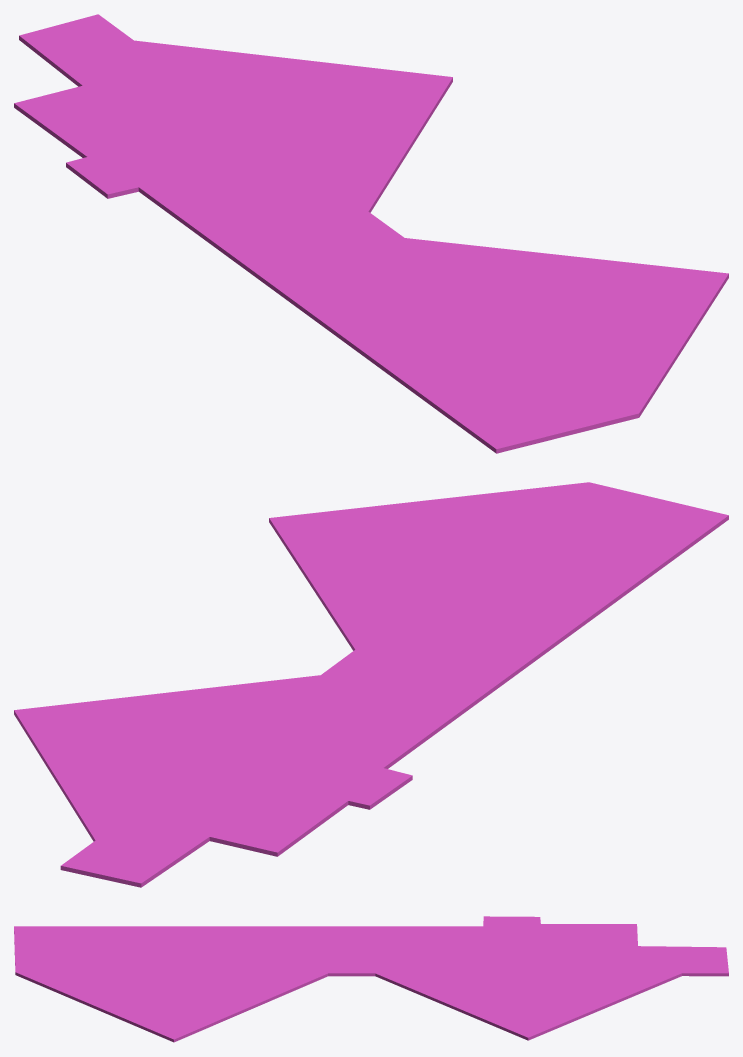
Rendered from 6thfloor.gltf.
3 views of the same model, one above another, from view 1: azimuth 30°, elevation 25°; view 2: azimuth 150°, elevation 25°; view 3: azimuth 270°, elevation 25° (orthographic). The views are drawn at different scales.
Parts seen in each view (by area): view 1: floor.001; view 2: floor.001; view 3: floor.001.
Boxes of the visible parts, <box> form: floor.001: <box>14,14,728,453</box>; floor.001: <box>14,482,728,887</box>; floor.001: <box>14,916,728,1042</box>.
Size of the model in its own units: 45.48 by 0.5 by 112.
